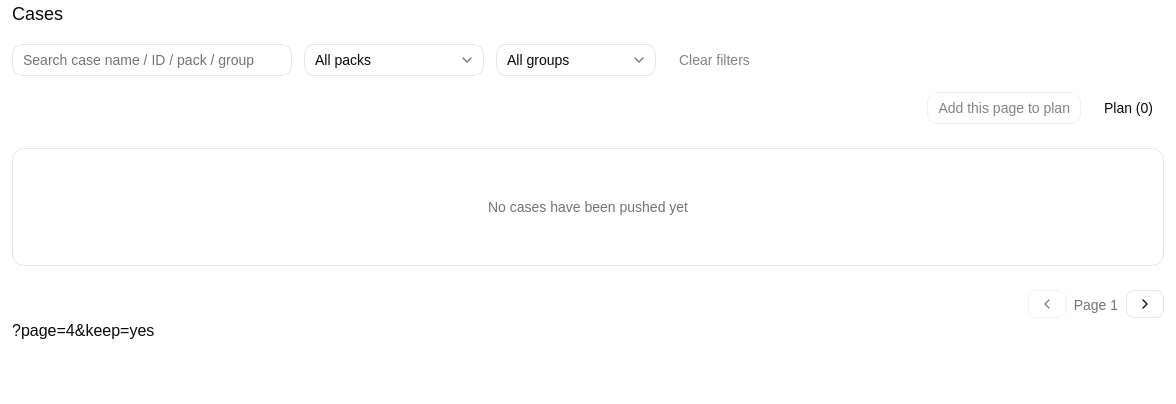
it: resets the page when cases pack changes
Expected: the text "No cases have been pushed yet" is shown, [488, 197, 688, 217]
Step 1. Click the 2nd button named "Next" → click(1145, 304), box [1126, 290, 1164, 318]
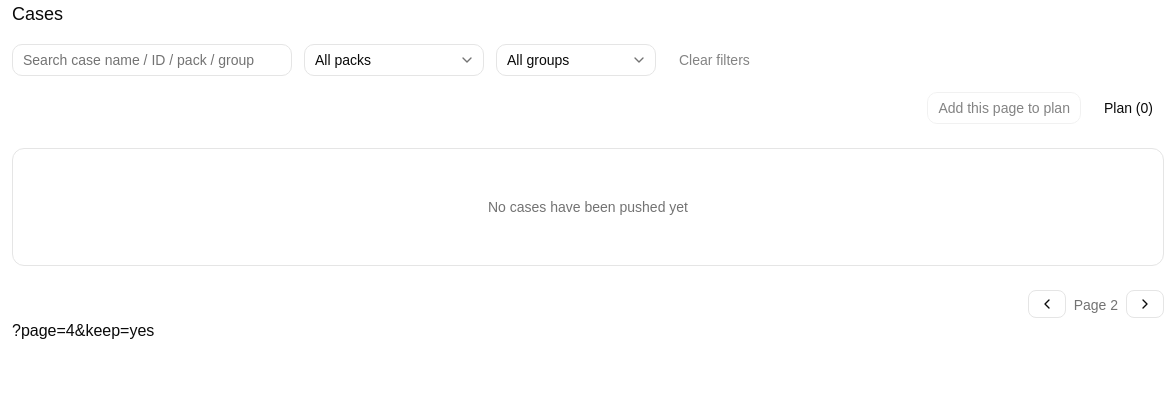
Expected: the text with test id "location" reads "?page=4&keep=yes", [12, 322, 154, 339]
Step 2. Click the dropdown labelled "pack" → click(394, 60), box [304, 44, 484, 76]
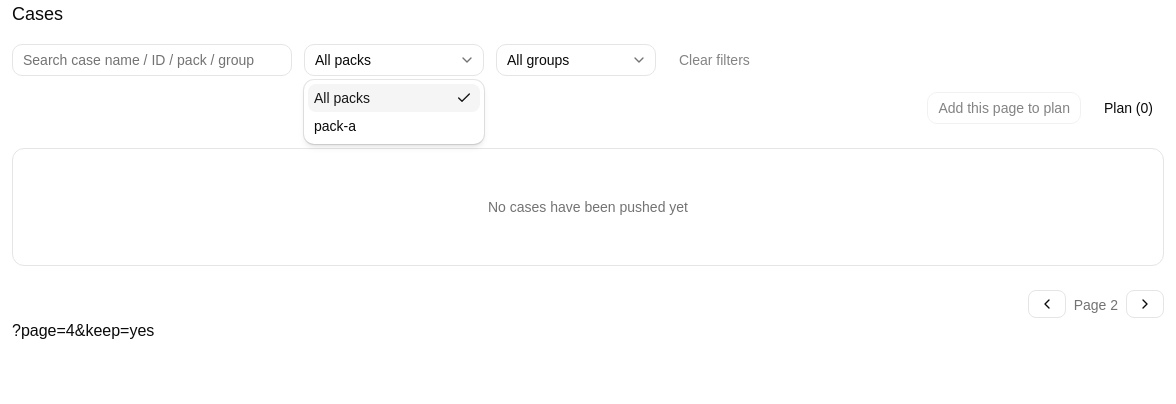
Step 3. Click the option "pack-a" → click(335, 126), box [314, 118, 356, 134]
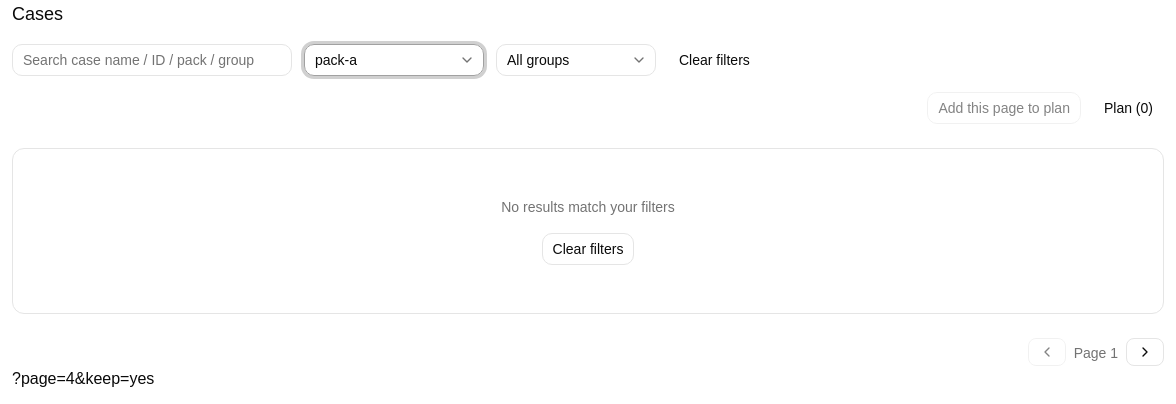
Expected: the text with test id "location" reads "?page=4&keep=yes", [12, 370, 154, 387]
Result: the text "No results match your filters" is shown at [501, 197, 675, 217]
